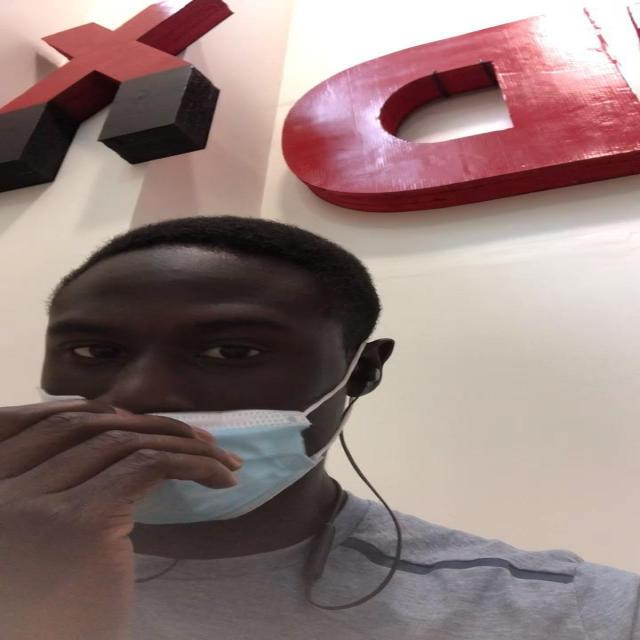face: (37, 272, 367, 528)
